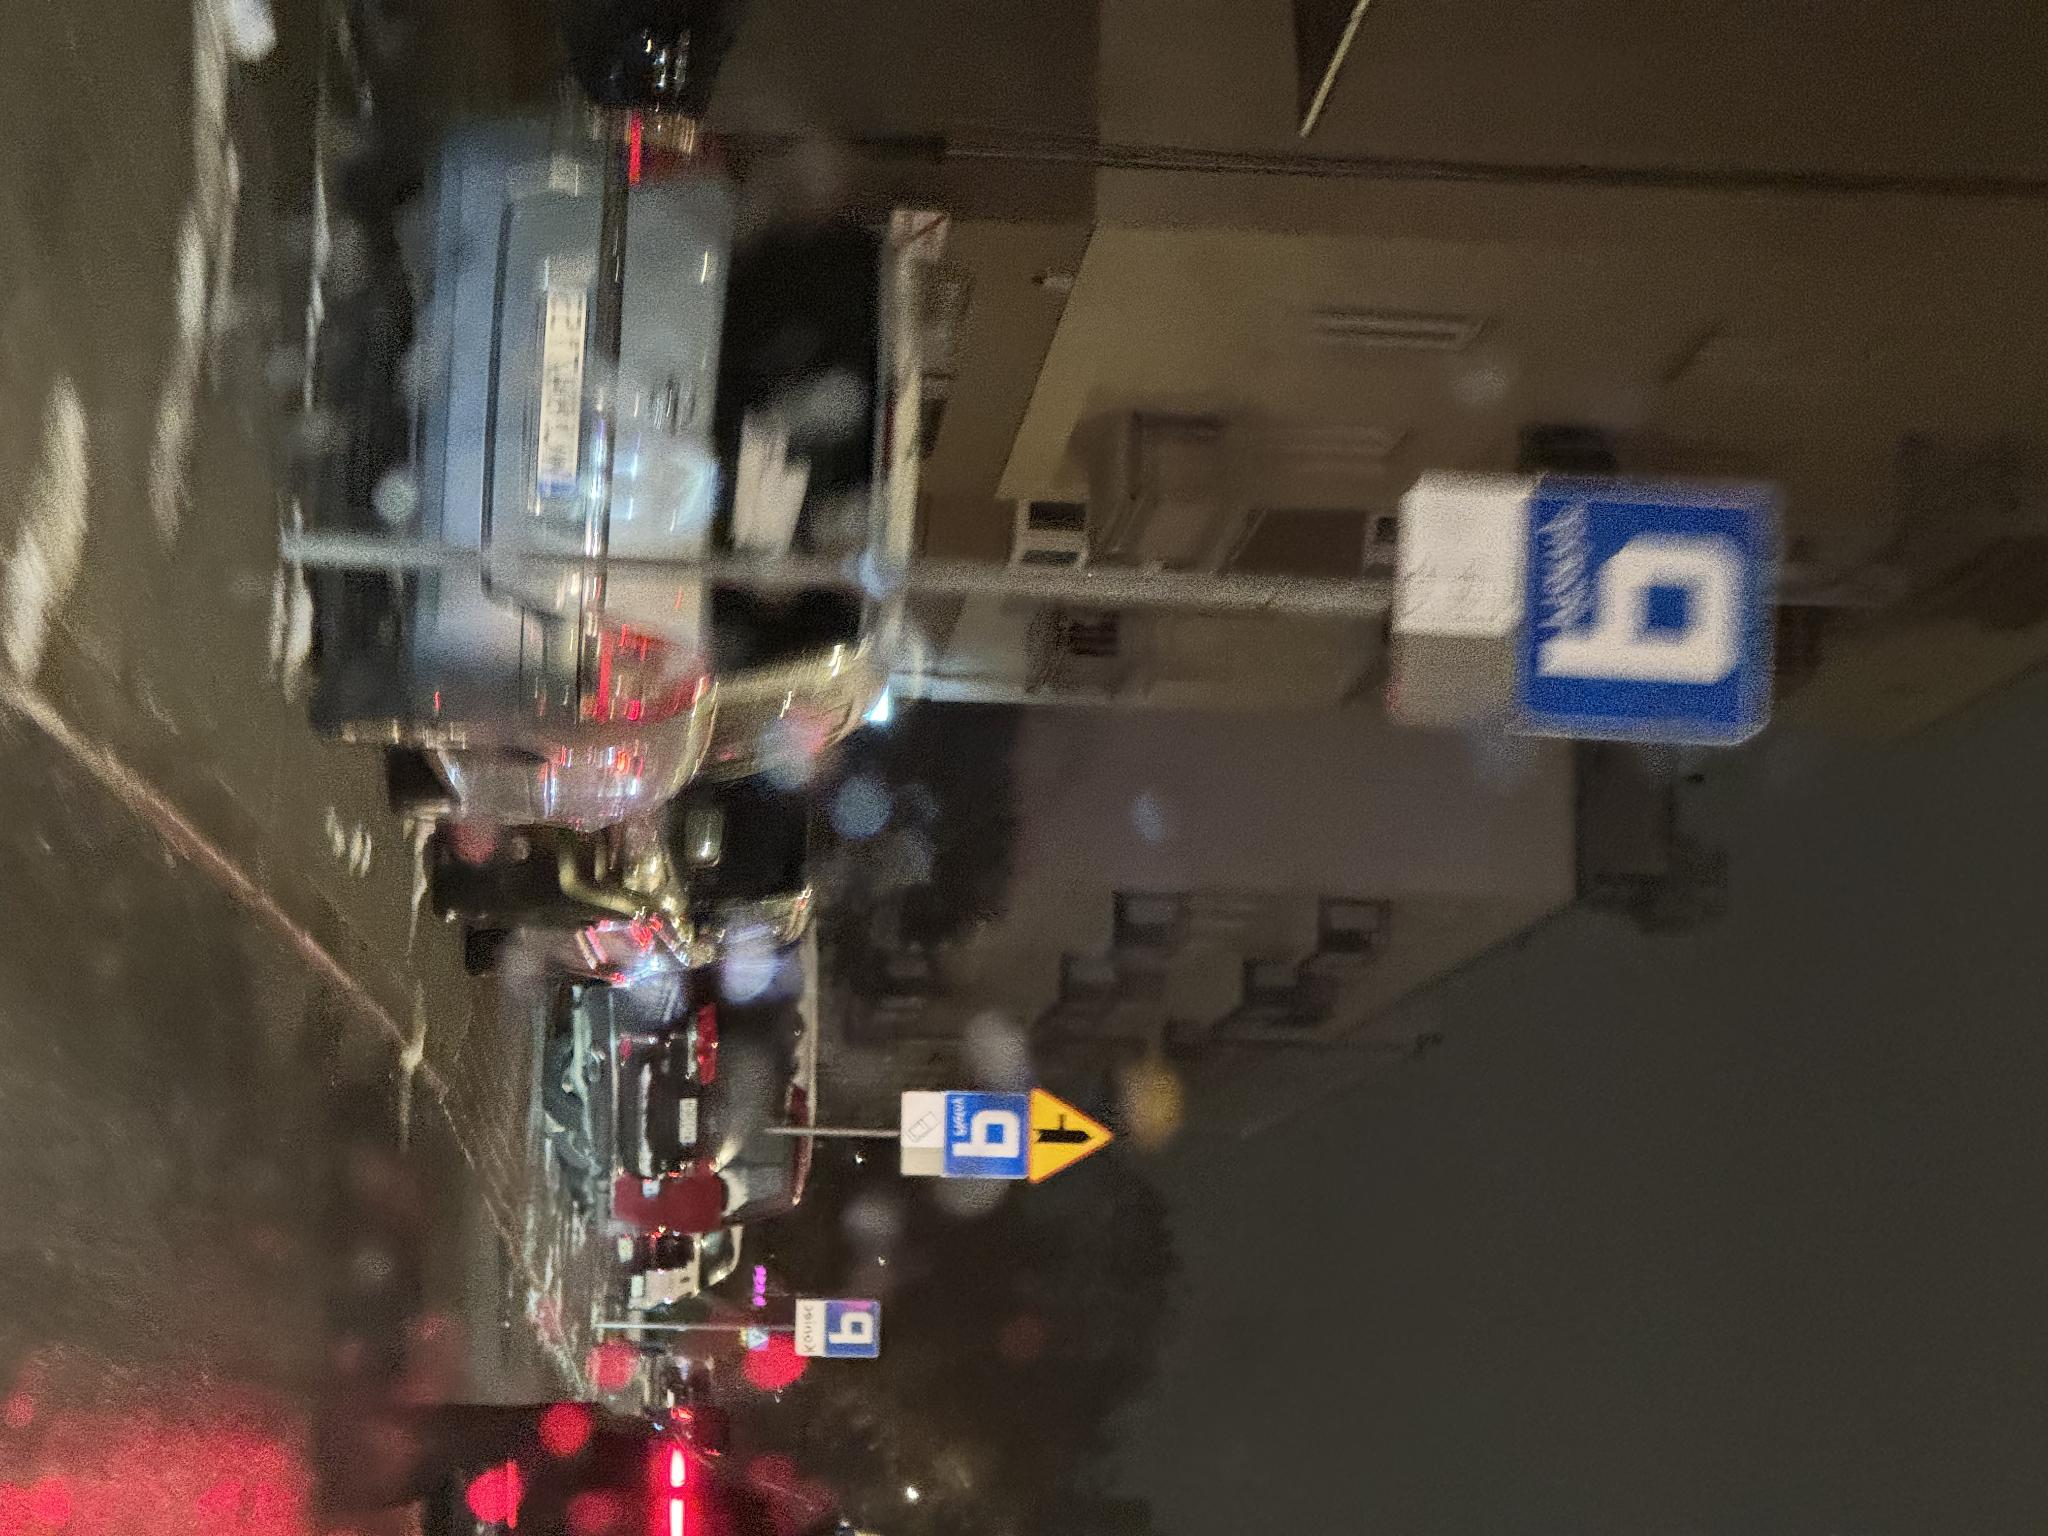information: (990, 273, 1261, 526), (1600, 1018, 1695, 1110), (1811, 1165, 1871, 1225)
other: (982, 531, 1242, 657), (1601, 1107, 1688, 1152), (1808, 1223, 1867, 1254)
warning: (1593, 933, 1696, 1023)
